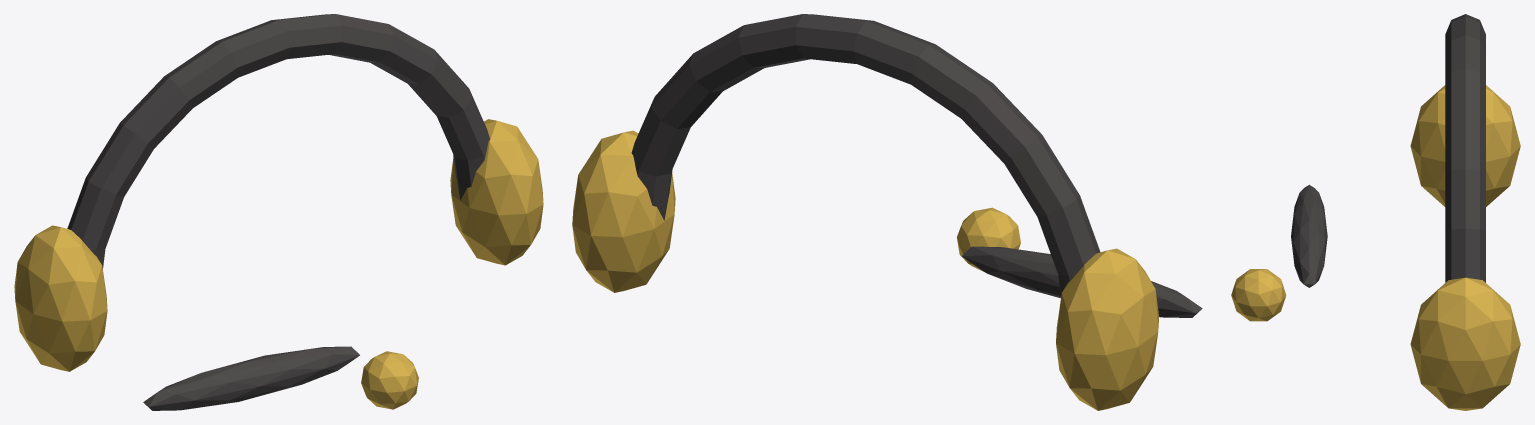
The model's file is hw-headset.glb.
The picture shows the model from 3 angles, left to right: view 1: azimuth 30°, elevation 25°; view 2: azimuth 150°, elevation 25°; view 3: azimuth 270°, elevation 25°; orthographic projection. The views are drawn at different scales.
Visible parts, largest first — view 1: headset_band, headset_cup_-1, headset_cup_1, headset_boom, headset_mic; view 2: headset_band, headset_cup_-1, headset_cup_1, headset_boom, headset_mic; view 3: headset_cup_1, headset_band, headset_cup_-1, headset_boom, headset_mic.
Part boxes in pixels (x1=…): headset_band: x1=67, y1=14, x2=489, y2=268; headset_cup_-1: x1=14, y1=225, x2=107, y2=371; headset_cup_1: x1=450, y1=119, x2=543, y2=265; headset_boom: x1=143, y1=346, x2=359, y2=410; headset_mic: x1=361, y1=351, x2=418, y2=409; headset_band: x1=631, y1=14, x2=1100, y2=296; headset_cup_-1: x1=1056, y1=248, x2=1159, y2=410; headset_cup_1: x1=572, y1=130, x2=675, y2=292; headset_boom: x1=962, y1=246, x2=1202, y2=317; headset_mic: x1=957, y1=207, x2=1020, y2=272; headset_cup_1: x1=1410, y1=277, x2=1520, y2=410; headset_band: x1=1445, y1=14, x2=1485, y2=282; headset_cup_-1: x1=1410, y1=85, x2=1520, y2=206; headset_boom: x1=1291, y1=184, x2=1327, y2=287; headset_mic: x1=1231, y1=269, x2=1286, y2=321.
Size of the model in its own units: 0.5956 by 0.342 by 0.315.
